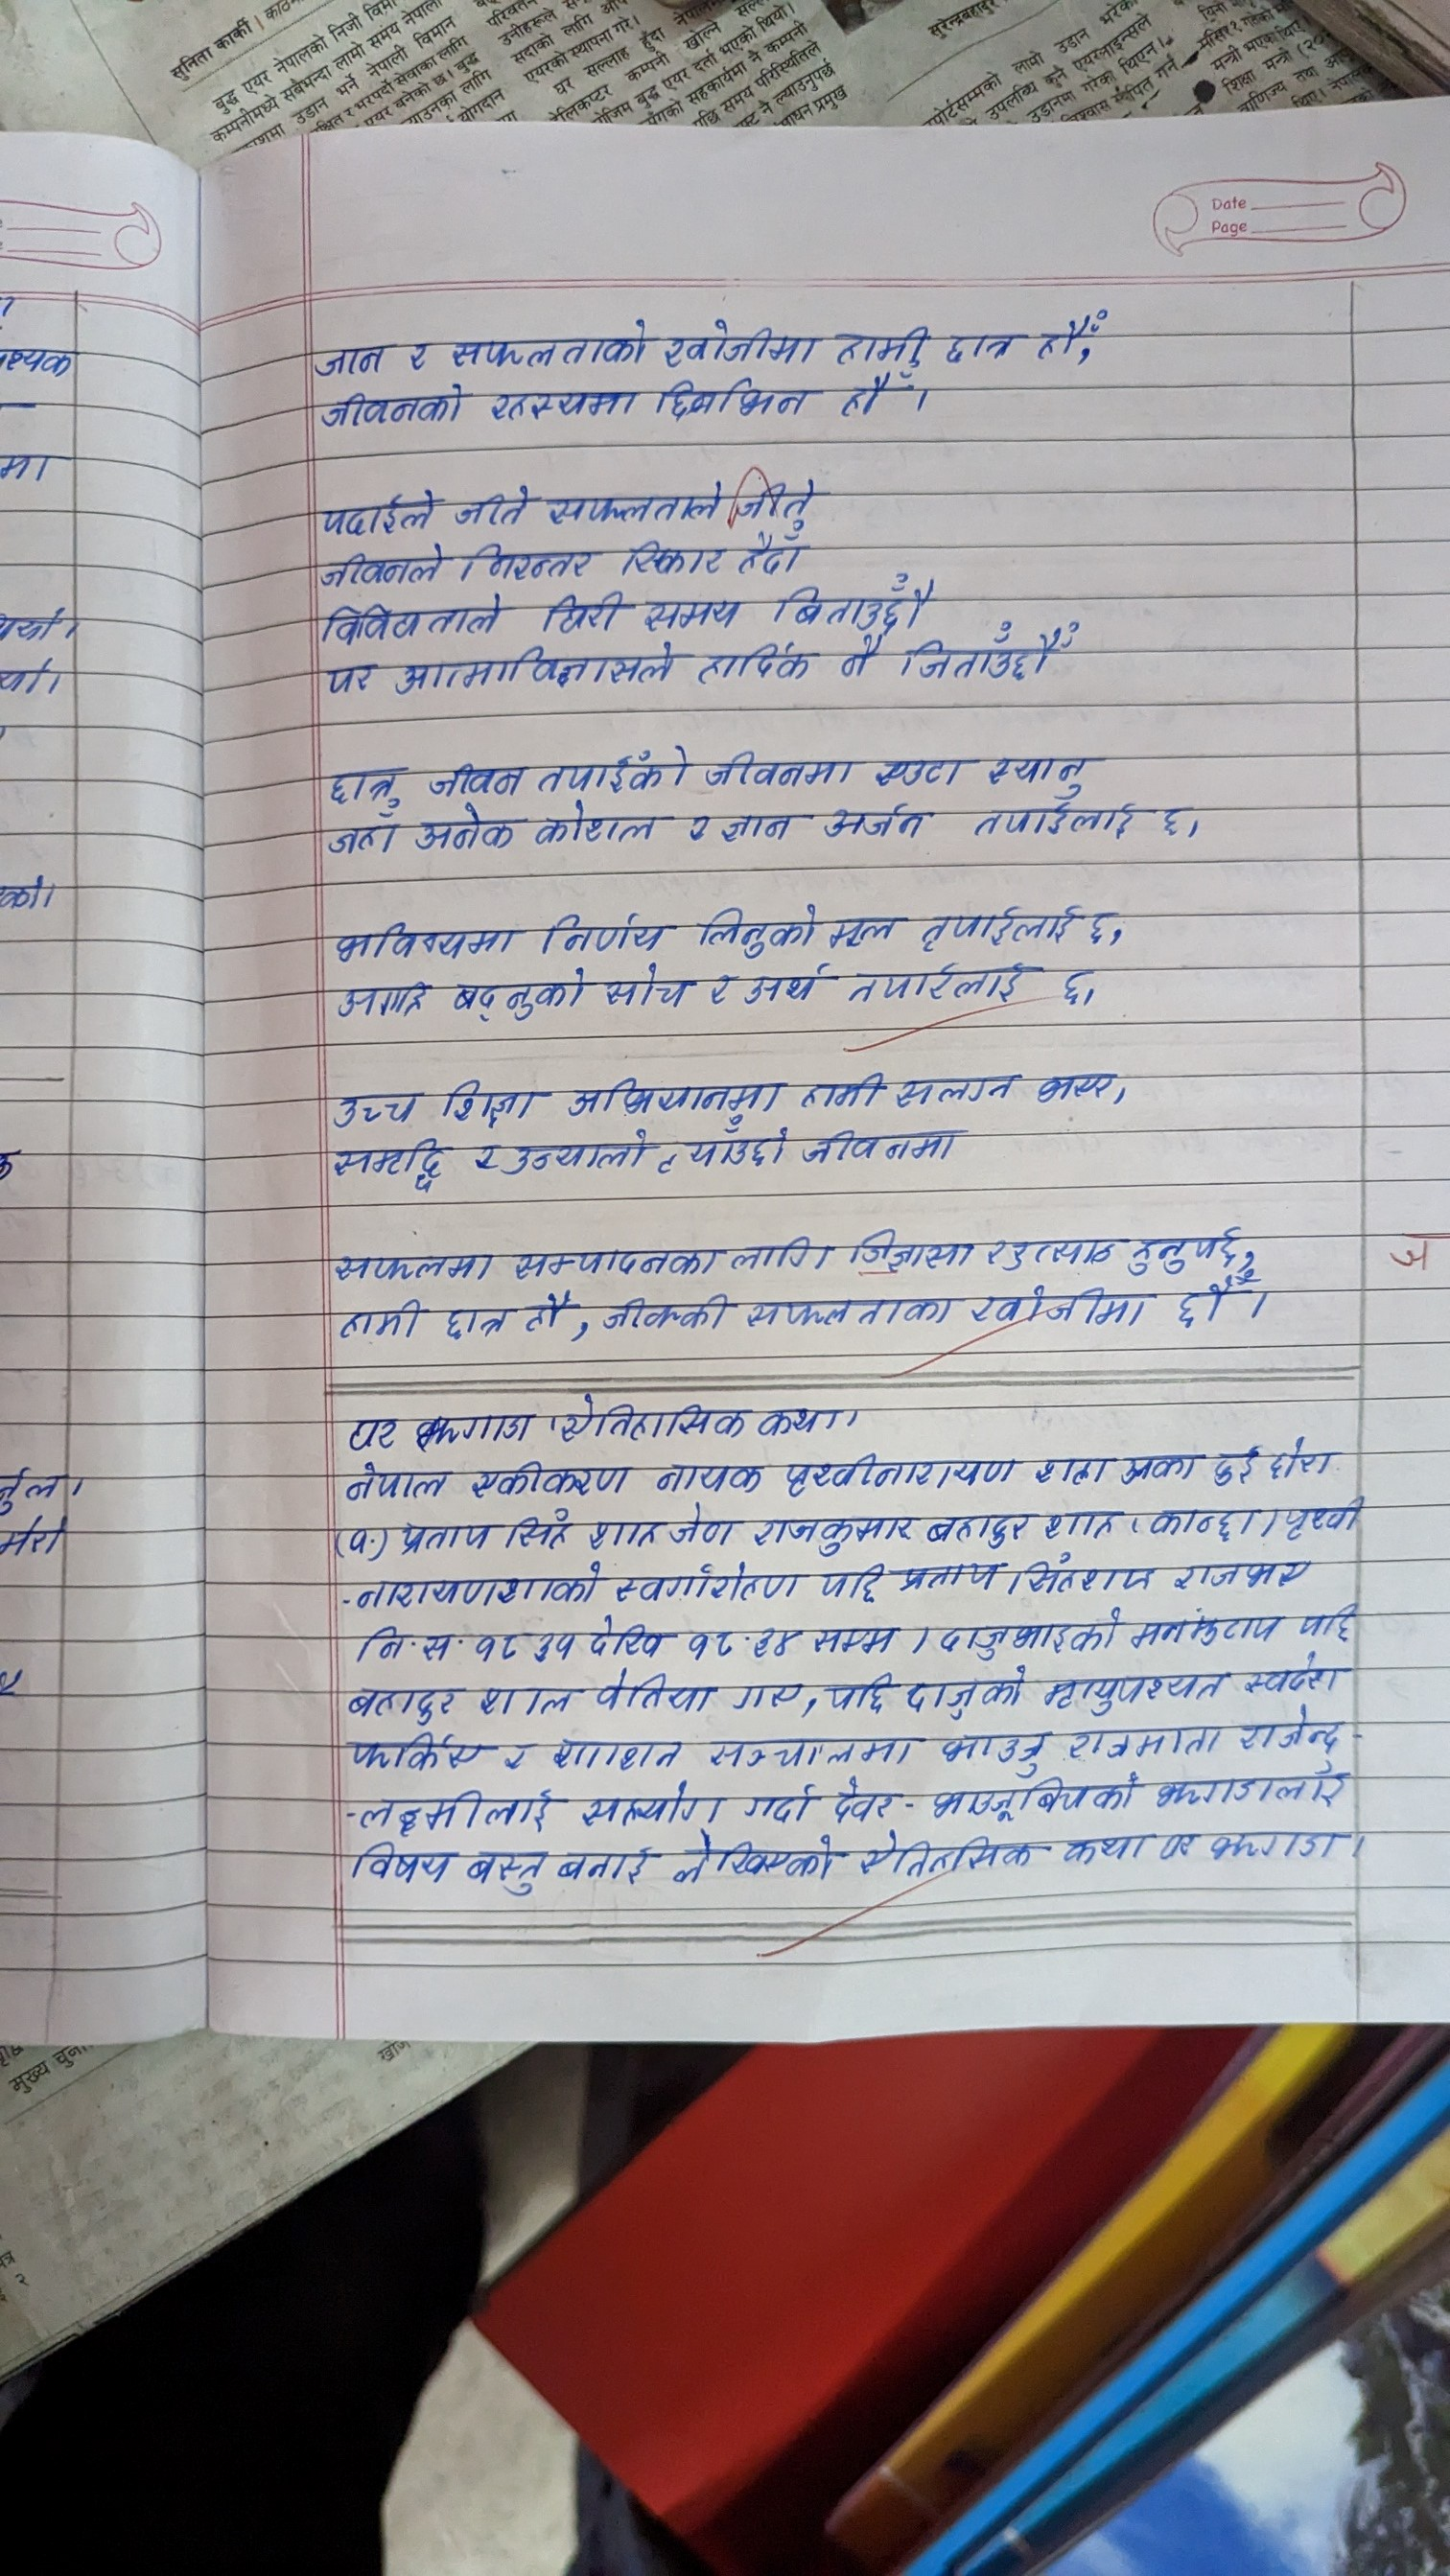text: (397, 648, 689, 695), (446, 310, 653, 370), (781, 1447, 1014, 1499), (358, 1562, 604, 1608), (565, 1067, 788, 1116), (558, 1391, 745, 1444), (540, 738, 692, 800), (896, 633, 1078, 685), (671, 1835, 836, 1891), (935, 1606, 1124, 1654), (319, 596, 515, 642), (1039, 1667, 1225, 1714), (915, 895, 1071, 952), (660, 311, 811, 370), (926, 1778, 1137, 1819), (322, 913, 515, 957), (545, 478, 722, 525), (613, 1562, 802, 1606), (1156, 1771, 1358, 1812), (361, 1787, 561, 1828), (768, 580, 937, 628), (685, 892, 814, 954), (848, 961, 1029, 1005), (860, 1835, 1034, 1881), (508, 1242, 715, 1279), (701, 745, 860, 793), (740, 1295, 951, 1330), (328, 1242, 496, 1286), (308, 384, 474, 428), (655, 1122, 793, 1175), (970, 803, 1149, 844), (322, 1131, 450, 1187), (754, 1513, 914, 1557), (968, 1284, 1147, 1323), (308, 540, 448, 589), (705, 1734, 919, 1766), (579, 1783, 729, 1828), (1207, 1822, 1346, 1870), (652, 375, 809, 416), (482, 384, 643, 423), (802, 1125, 961, 1164), (843, 1224, 972, 1272), (315, 483, 439, 533), (466, 1460, 630, 1497), (1126, 1217, 1234, 1274), (510, 1129, 648, 1173), (347, 1732, 485, 1776), (1009, 1557, 1151, 1599), (328, 968, 436, 1023), (444, 971, 590, 1012), (905, 1668, 1027, 1716), (595, 1290, 733, 1330), (535, 909, 666, 952), (349, 1842, 457, 1893), (595, 1672, 715, 1718), (436, 1074, 536, 1129), (457, 538, 586, 580), (1168, 1555, 1314, 1592), (1062, 1729, 1222, 1762), (892, 1069, 1018, 1111), (1007, 1221, 1119, 1269), (984, 750, 1099, 796), (682, 1619, 797, 1665), (551, 1734, 685, 1773), (820, 803, 933, 849), (1133, 1615, 1280, 1651), (1238, 1709, 1344, 1757), (729, 464, 813, 524), (535, 805, 662, 844), (1030, 303, 1108, 364), (696, 642, 820, 681), (1168, 1276, 1266, 1325), (326, 1072, 420, 1123), (558, 1842, 652, 1893), (650, 1458, 770, 1497), (413, 1408, 538, 1445), (416, 807, 521, 851), (322, 807, 405, 862), (830, 372, 919, 423), (471, 1622, 575, 1665), (937, 1732, 1045, 1773), (728, 1233, 834, 1274), (533, 591, 627, 637), (869, 747, 970, 789), (616, 534, 731, 571), (343, 1684, 459, 1721), (1147, 1500, 1252, 1541), (834, 317, 926, 363), (600, 962, 692, 1008), (423, 755, 526, 796), (744, 962, 834, 1008), (1241, 1656, 1342, 1697), (1284, 1491, 1365, 1541), (333, 1297, 427, 1339), (322, 752, 405, 798), (467, 1845, 544, 1895), (798, 1063, 883, 1108), (643, 591, 738, 630), (478, 1679, 574, 1718), (342, 1461, 451, 1495), (451, 483, 535, 527), (719, 805, 802, 849), (922, 1513, 1030, 1546), (1037, 1060, 1115, 1106), (1264, 1431, 1333, 1483), (310, 334, 389, 379), (1057, 1829, 1147, 1868), (823, 1670, 896, 1718), (829, 908, 899, 955), (829, 1776, 899, 1824), (398, 1518, 489, 1555), (593, 1615, 666, 1661), (758, 1399, 843, 1438), (738, 531, 809, 577), (938, 329, 1022, 368), (669, 1502, 742, 1546), (1030, 1451, 1112, 1490), (501, 1506, 570, 1550), (1045, 1504, 1121, 1543), (820, 1562, 883, 1608), (744, 1780, 816, 1819), (1294, 1599, 1354, 1645), (1122, 1449, 1199, 1484), (1211, 1437, 1257, 1493), (441, 1300, 510, 1338), (340, 1412, 402, 1453), (588, 1516, 660, 1550), (351, 1622, 405, 1665), (320, 656, 377, 697), (837, 633, 889, 678), (521, 1290, 572, 1334), (811, 1628, 896, 1654), (1053, 964, 1099, 1010), (731, 1681, 797, 1711), (1156, 793, 1192, 844), (1156, 1826, 1202, 1863), (418, 1622, 451, 1672), (340, 1516, 379, 1555), (400, 334, 437, 373), (1085, 901, 1115, 947), (682, 810, 717, 849), (499, 1736, 531, 1776), (469, 1141, 503, 1177), (706, 975, 731, 1012), (983, 1228, 1004, 1265)
